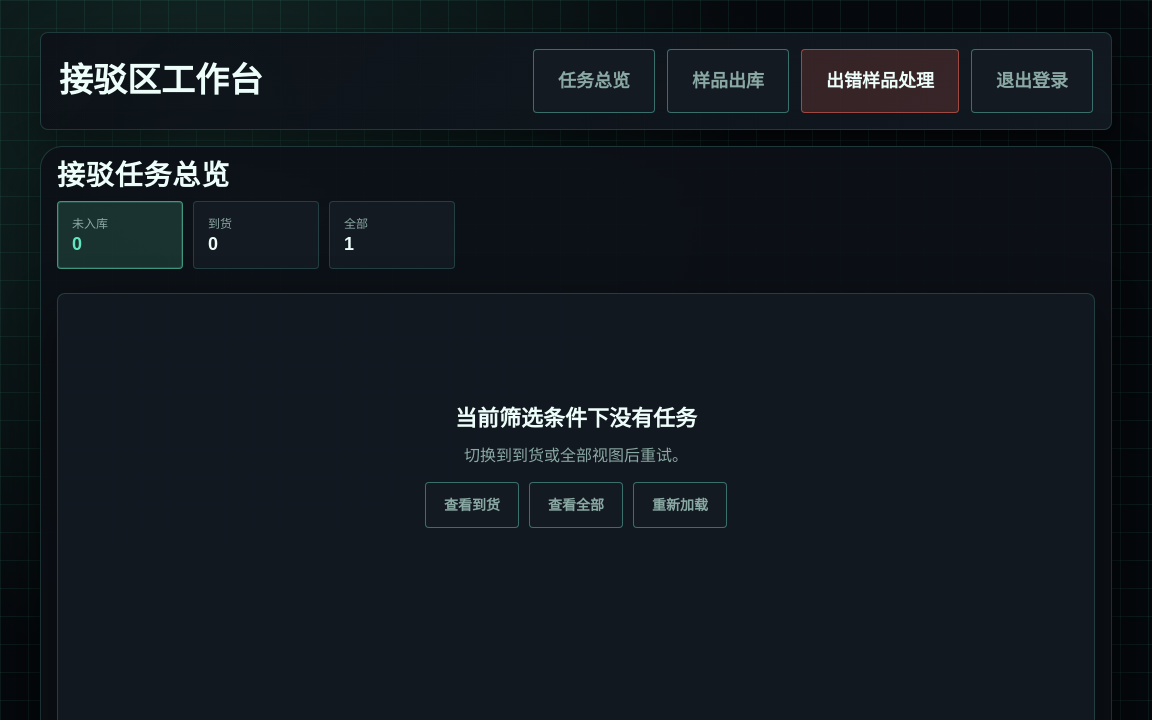
it: TransferWorkbench runtime › does not treat legacy stored task status as arrived in the overview filter
Click the button with test id "transfer-filter-stored" at [256, 235], box [193,201,319,269]
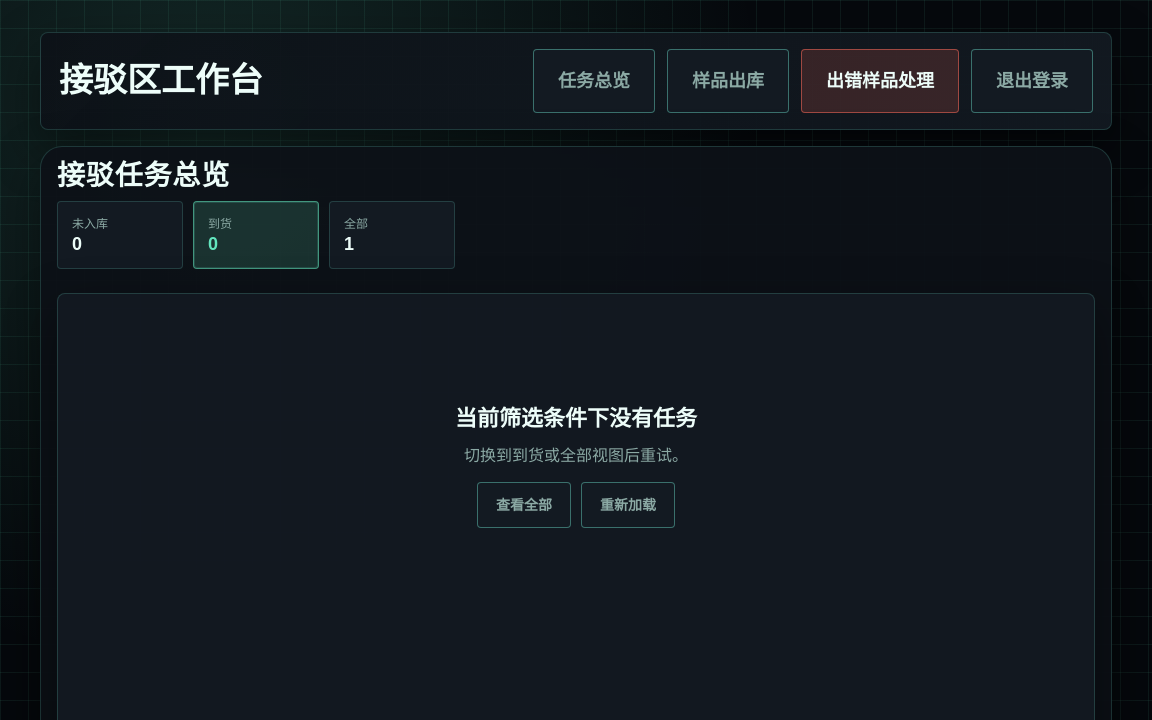
Click the button with test id "transfer-filter-all" at [392, 235], box [329,201,455,269]
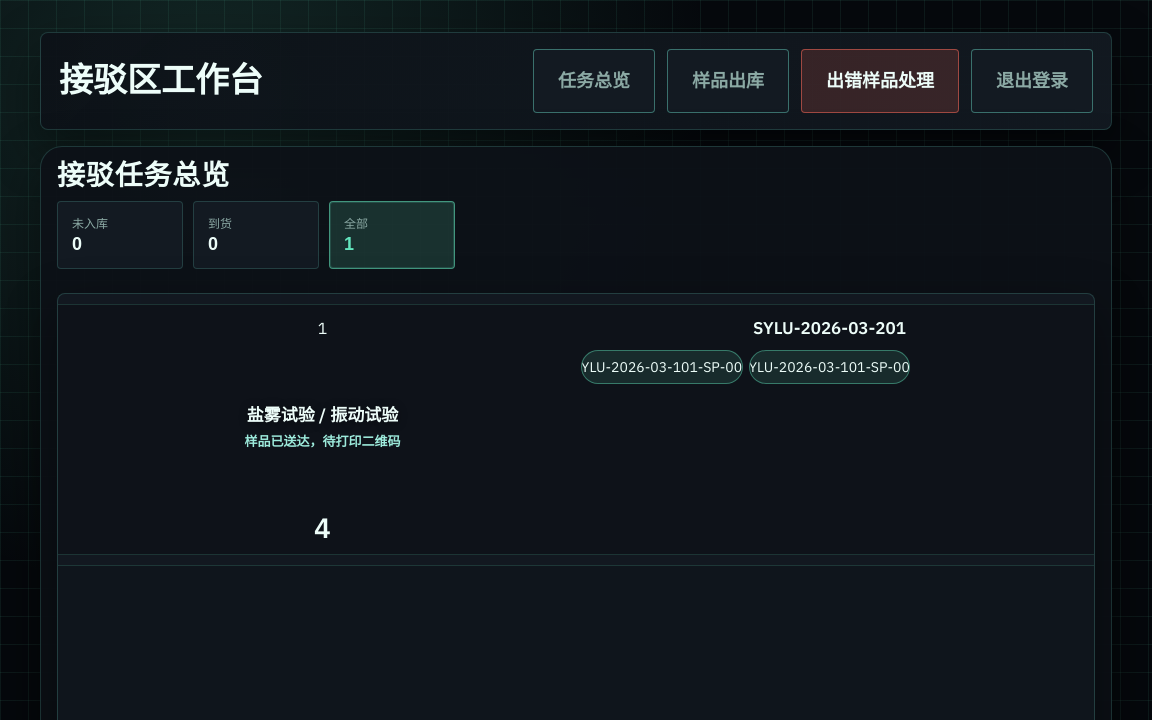
Now the button with test id "transfer-task-row-201" shows "SYLU-2026-03-201", box [58,304,1094,555]
